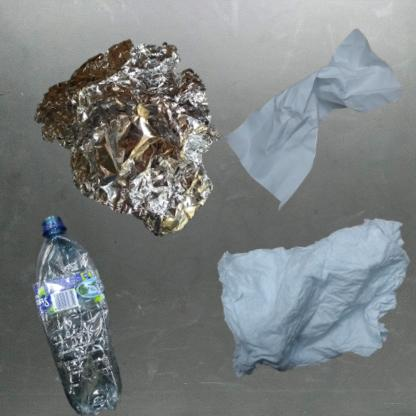aluminio: (10, 10, 262, 258)
botella: (10, 213, 162, 416)
papel: (213, 10, 416, 233), (213, 213, 416, 385)
